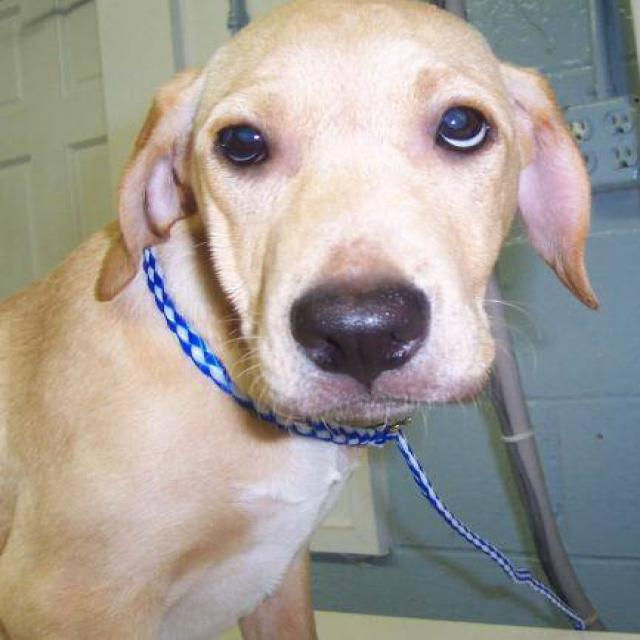dog: (0, 0, 600, 639)
